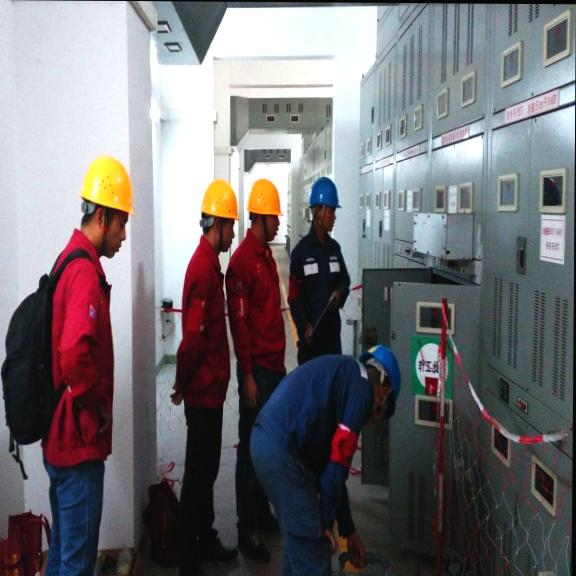no_safety_vest: (32, 243, 112, 481), (255, 355, 365, 506), (171, 242, 229, 427), (224, 239, 287, 389), (297, 230, 344, 336)
